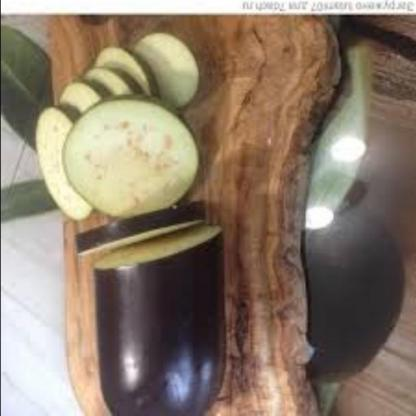eggplant: (79, 190, 271, 416), (33, 35, 227, 214)
